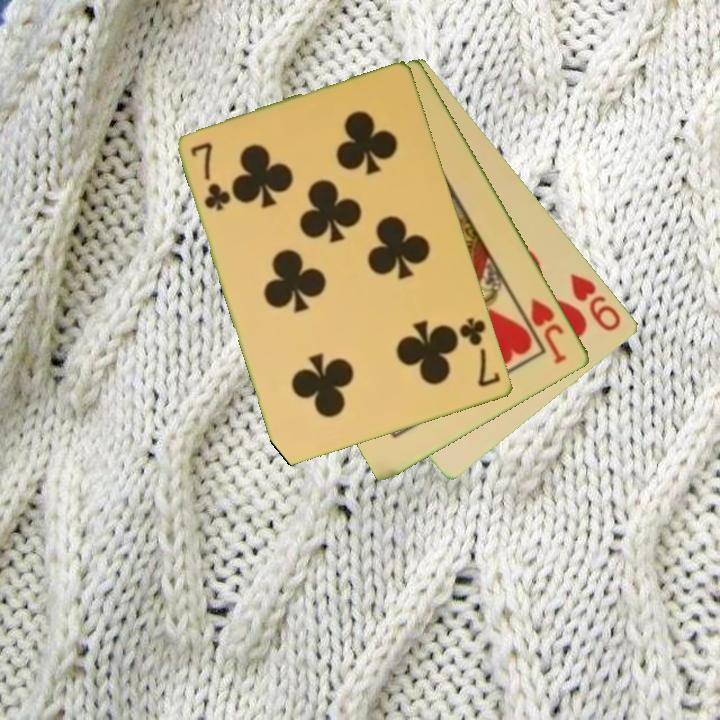7c: (456, 314, 504, 390), (187, 139, 234, 215)
9h: (567, 270, 625, 335)
Jh: (527, 294, 570, 368)
